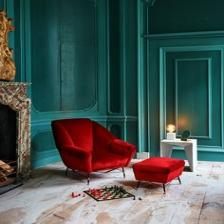red: (53, 119, 137, 185), (133, 158, 185, 194)
